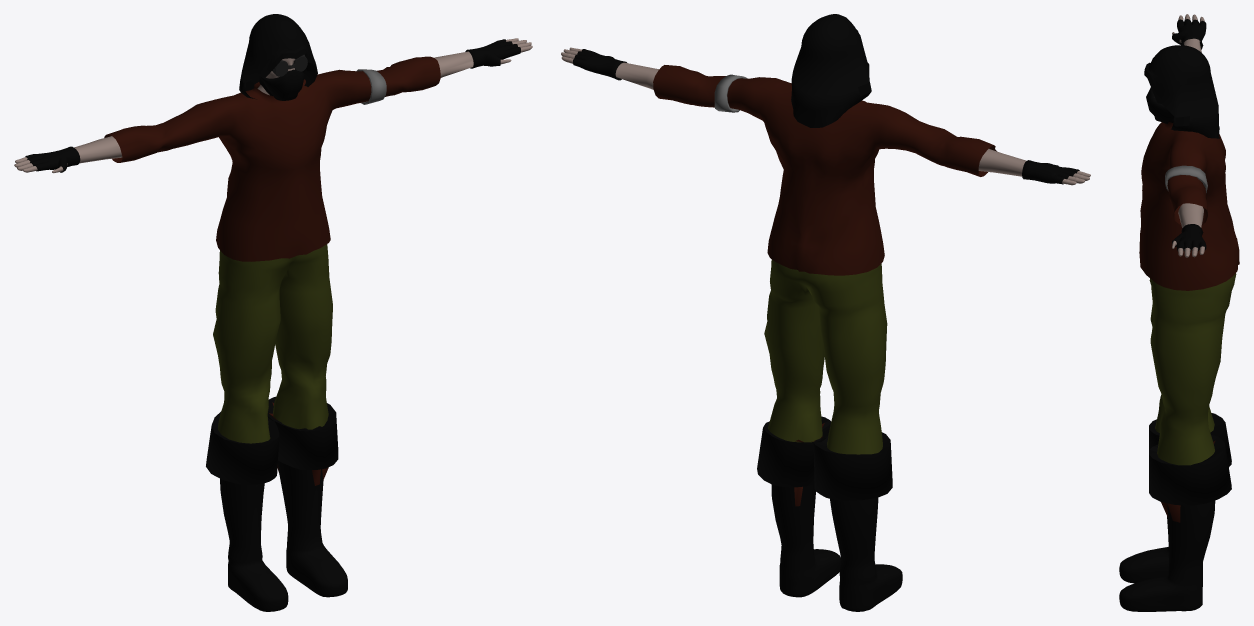
Rendered from character_blend.fbx.
3 views of the same model, side by side, from view 1: azimuth 30°, elevation 25°; view 2: azimuth 150°, elevation 25°; view 3: azimuth 270°, elevation 25° (orthographic). The views are drawn at different scales.
Parts seen in each view (by area): view 1: Shirt, Pants, Boots, Boots.2, Hood, Body.001, Gloves, Mask; view 2: Shirt, Pants, Boots, Hood, Boots.2, Body.001, Gloves; view 3: Shirt, Pants, Boots, Hood, Boots.2, Gloves, Body.001, Shirt.001, Mask.
Boxes of the visible parts, x1=… form: Shirt: x1=104, y1=56, x2=440, y2=261; Pants: x1=213, y1=244, x2=332, y2=443; Boots: x1=220, y1=460, x2=347, y2=611; Boots.2: x1=206, y1=396, x2=338, y2=485; Hood: x1=239, y1=14, x2=317, y2=99; Body.001: x1=14, y1=38, x2=532, y2=173; Gloves: x1=25, y1=39, x2=520, y2=172; Mask: x1=259, y1=69, x2=304, y2=100; Shirt: x1=653, y1=65, x2=996, y2=275; Pants: x1=764, y1=259, x2=887, y2=454; Boots: x1=771, y1=446, x2=902, y2=611; Hood: x1=791, y1=14, x2=871, y2=127; Boots.2: x1=757, y1=416, x2=892, y2=506; Body.001: x1=561, y1=47, x2=1090, y2=185; Gloves: x1=573, y1=49, x2=1079, y2=184; Shirt: x1=1139, y1=122, x2=1239, y2=290; Pants: x1=1149, y1=273, x2=1236, y2=465; Boots: x1=1119, y1=500, x2=1215, y2=611; Hood: x1=1144, y1=45, x2=1219, y2=138; Boots.2: x1=1149, y1=413, x2=1231, y2=522; Gloves: x1=1172, y1=19, x2=1206, y2=251; Body.001: x1=1172, y1=14, x2=1204, y2=257; Shirt.001: x1=1165, y1=165, x2=1207, y2=192; Mask: x1=1146, y1=87, x2=1174, y2=123.
Size of the model in its own units: 174 by 183 by 36.52.
